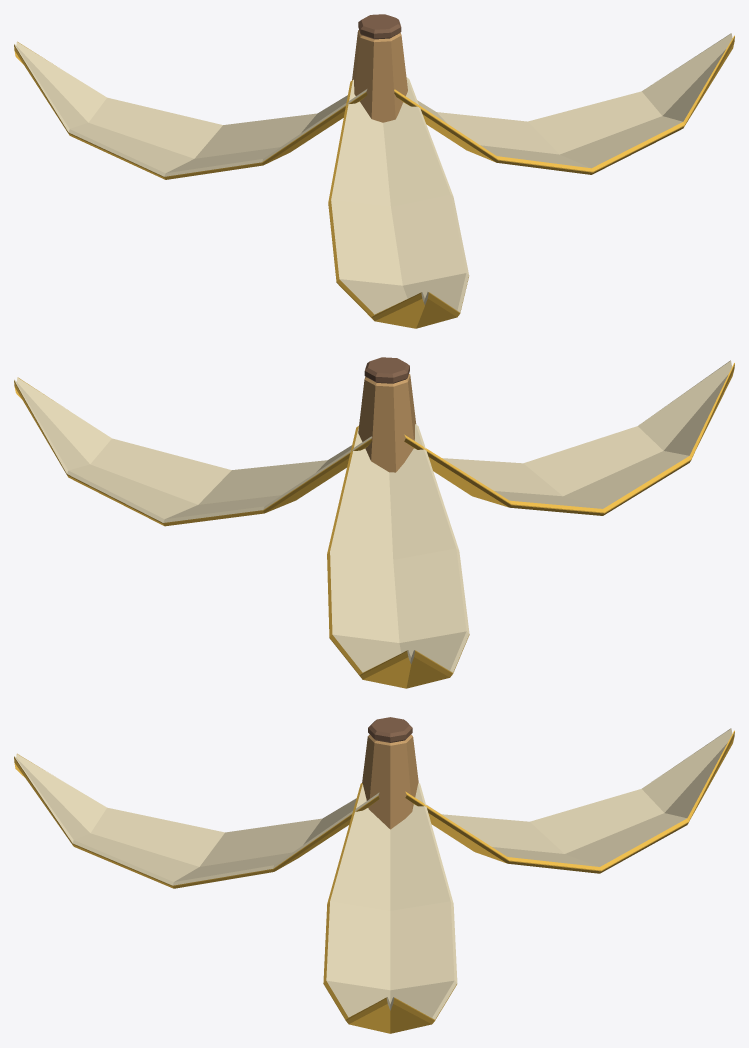
Rendered from b16_discarded_banana_peel.glb.
3 views of the same model, one above another, from view 1: azimuth 30°, elevation 25°; view 2: azimuth 150°, elevation 25°; view 3: azimuth 270°, elevation 25° (orthographic). The views are drawn at different scales.
Parts seen in each view (by area): view 1: b16_discarded_banana_peel; view 2: b16_discarded_banana_peel; view 3: b16_discarded_banana_peel.
Boxes of the visible parts, left/top/right/bottom form: b16_discarded_banana_peel: left=14, top=14, right=734, bottom=328; b16_discarded_banana_peel: left=14, top=357, right=734, bottom=688; b16_discarded_banana_peel: left=14, top=717, right=734, bottom=1033.
Bounding box in the file's own units: 0.171 × 0.0545 × 0.1938.
